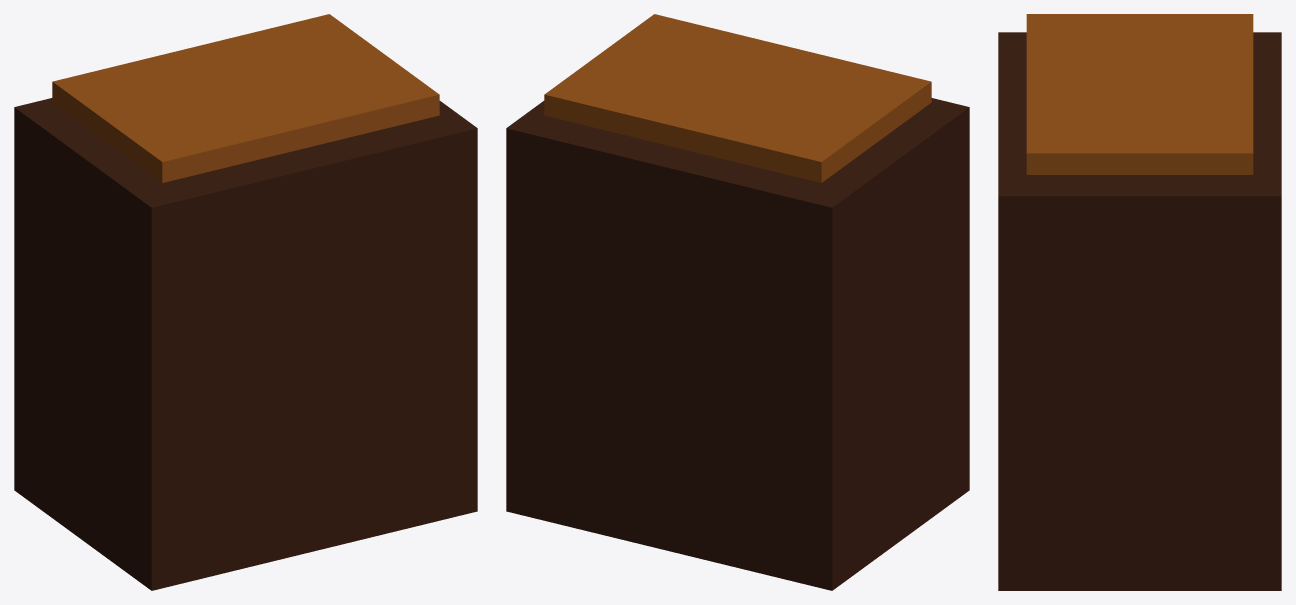
Rendered from packaging_box.obj.
The picture shows the model from 3 angles, left to right: view 1: azimuth 30°, elevation 25°; view 2: azimuth 150°, elevation 25°; view 3: azimuth 270°, elevation 25°; orthographic projection. The views are drawn at different scales.
Visible parts, largest first — view 1: dark_wood, brass; view 2: dark_wood, brass; view 3: dark_wood, brass.
Boxes of the visible parts, x1,y1,x2,y2 form: dark_wood: [14, 98, 477, 590]; brass: [52, 14, 439, 182]; dark_wood: [506, 98, 969, 590]; brass: [544, 14, 931, 182]; dark_wood: [998, 32, 1281, 590]; brass: [1026, 14, 1253, 174].
Bounding box in the file's own units: 1.3 × 1.57 × 0.95.
